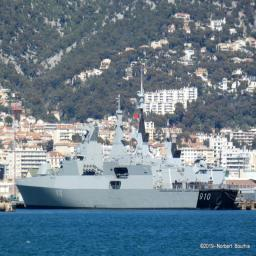Fragata: (14, 94, 242, 211)
